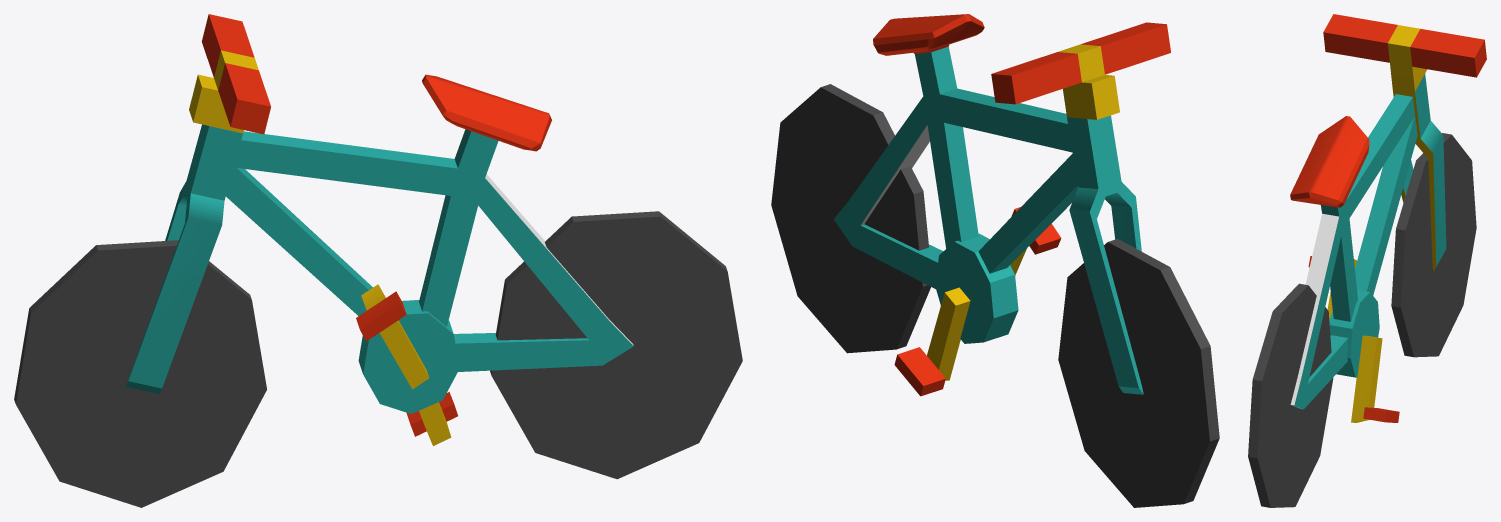
File: cycle.fbx
3 renders of one model, left to right at view 1: azimuth 30°, elevation 25°; view 2: azimuth 150°, elevation 25°; view 3: azimuth 270°, elevation 25°, orthographic. The views are drawn at different scales.
Parts seen in each view (by area): view 1: cycle.002; view 2: cycle.002; view 3: cycle.002.
Boxes of the visible parts, <box> form: cycle.002: <box>14,14,742,507</box>; cycle.002: <box>771,14,1219,507</box>; cycle.002: <box>1248,14,1486,507</box>.
Bounding box in the file's own units: 147 × 105 × 63.91.
